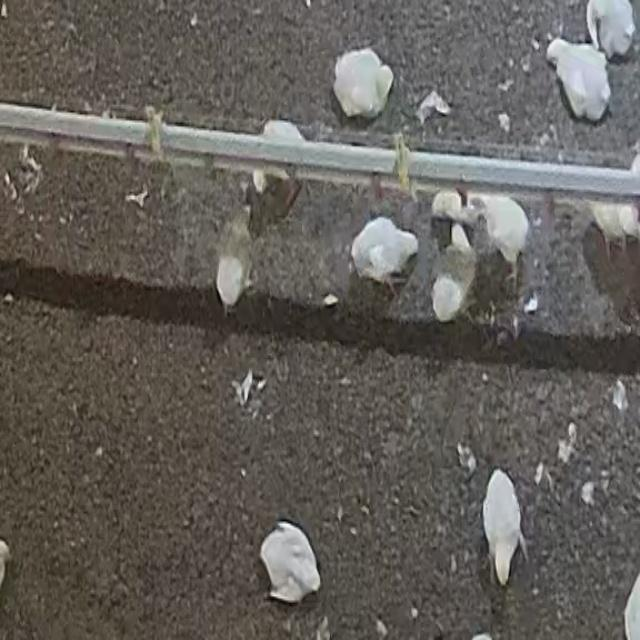chicken: (202, 202, 262, 314), (349, 212, 426, 290), (546, 38, 612, 120), (482, 469, 527, 589), (260, 518, 322, 604), (468, 194, 530, 277), (431, 225, 477, 324), (330, 47, 392, 119), (253, 120, 304, 197)
